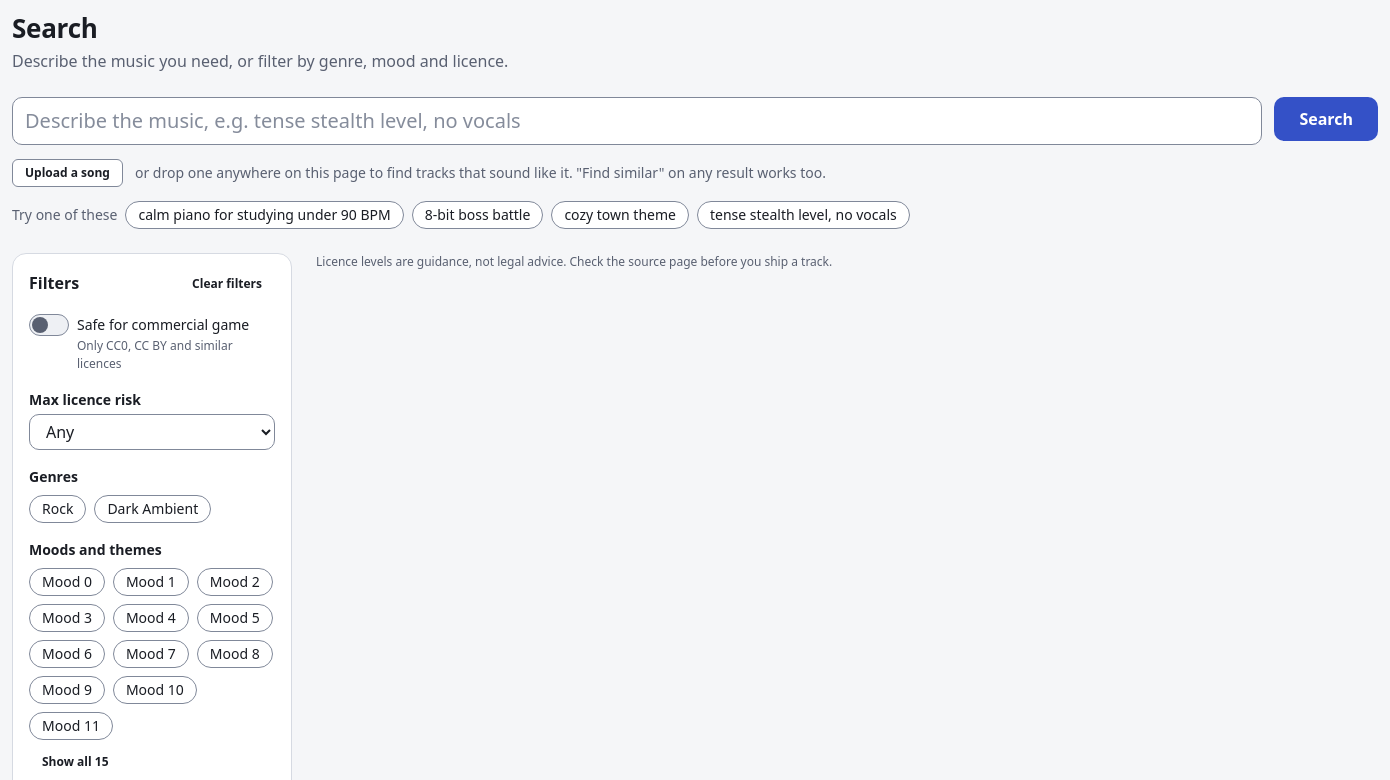
Scenario: Search page: query › submits with Enter
Type "8-bit boss" into the field named "Describe the music you need". click: (637,120)
box: [12,96,1262,144]
Then press Enter
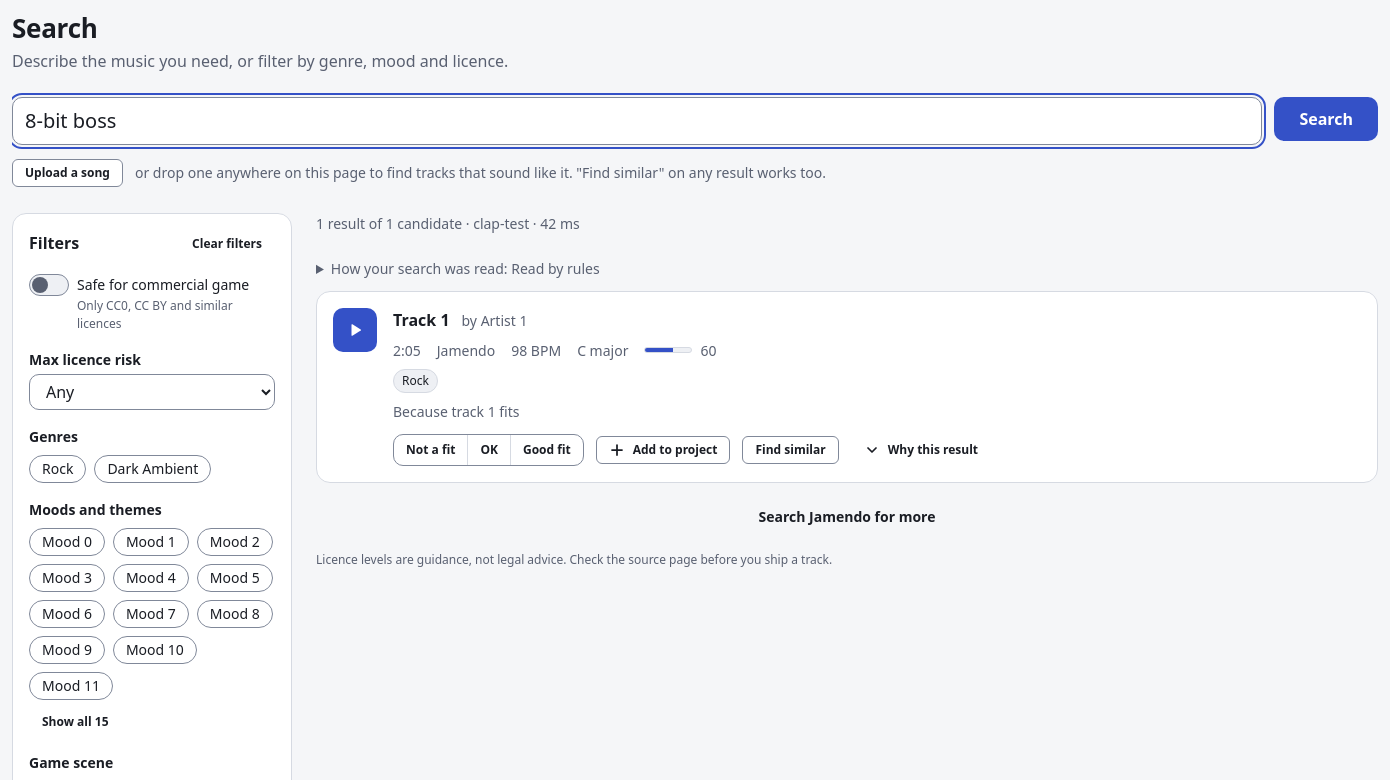
Expected: the button "Track 1" is shown, [393,308,450,332]
